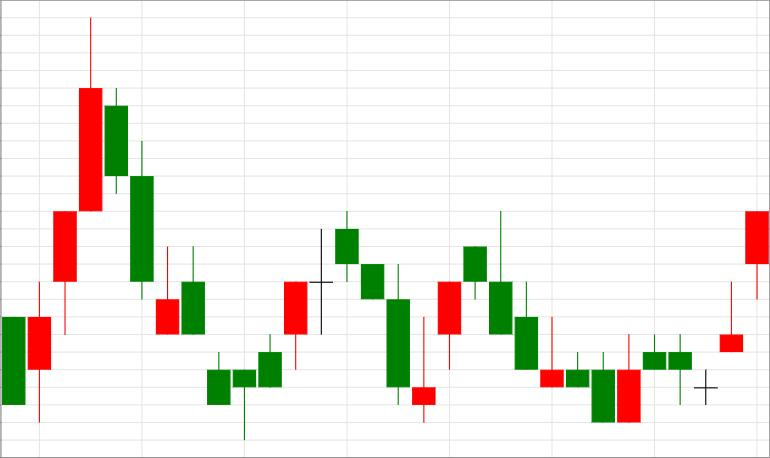bullish_engulfing_rise: (464, 211, 640, 422)
morning_star_rise: (335, 210, 461, 423)
three_black_crows_fall: (208, 211, 410, 439)
